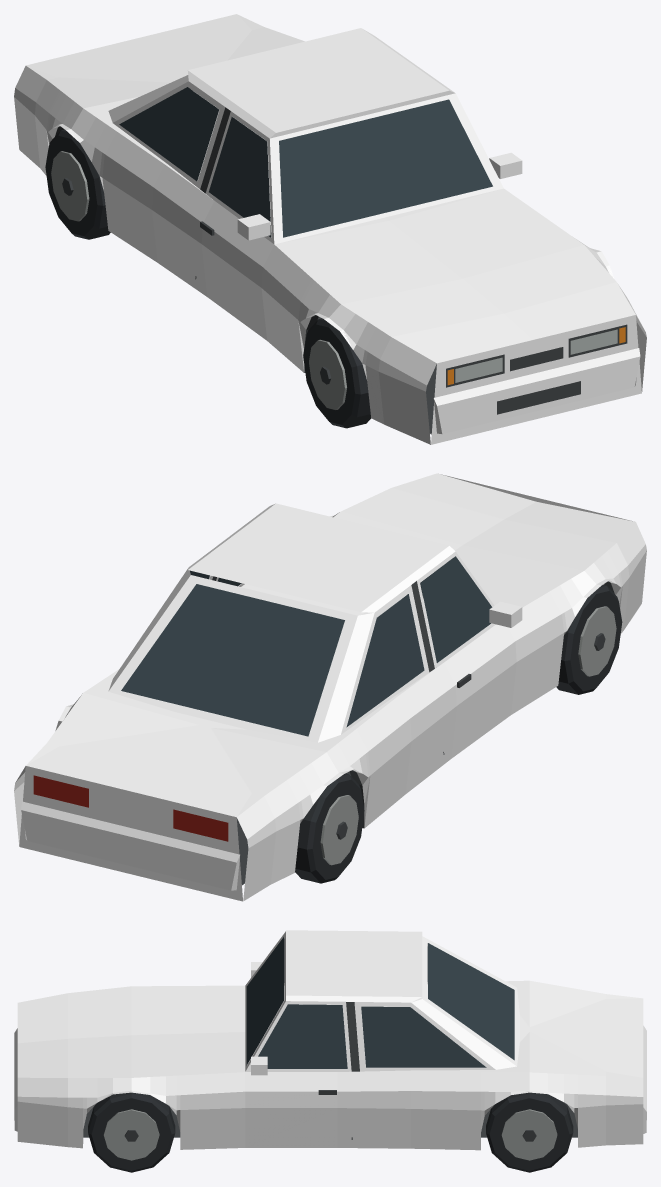
File: hayase_raikou.glb
The picture shows the model from 3 angles, top to bottom: view 1: azimuth 30°, elevation 25°; view 2: azimuth 150°, elevation 25°; view 3: azimuth 270°, elevation 25°; orthographic projection. The views are drawn at different scales.
Parts seen in each view (by area): view 1: hayase_raikou; view 2: hayase_raikou; view 3: hayase_raikou.
Boxes of the visible parts, x1,y1,x2,y2 form: hayase_raikou: (14, 14, 646, 444); hayase_raikou: (14, 473, 646, 901); hayase_raikou: (14, 930, 646, 1172).
Bounding box in the file's own units: 1.76 × 1.26 × 4.5.
Materials: 8 (1 with a texture image).
